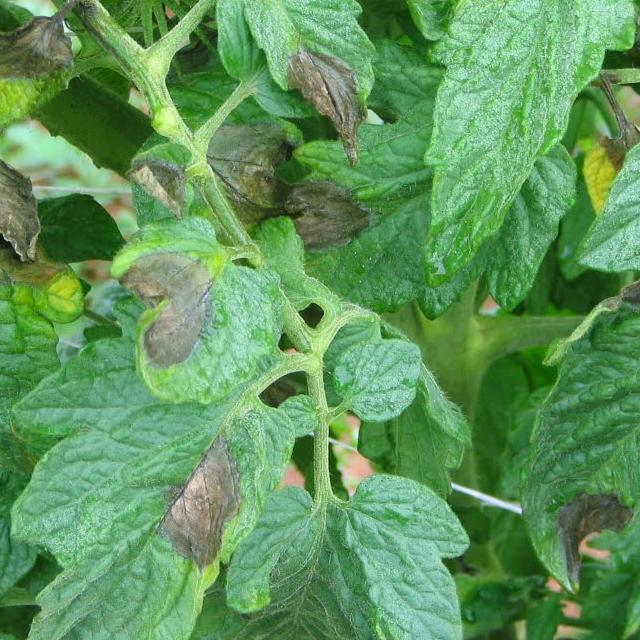Tomato leaf late blight: (6, 332, 300, 640), (110, 231, 287, 404), (0, 89, 68, 453), (248, 0, 368, 151), (0, 0, 81, 148)
